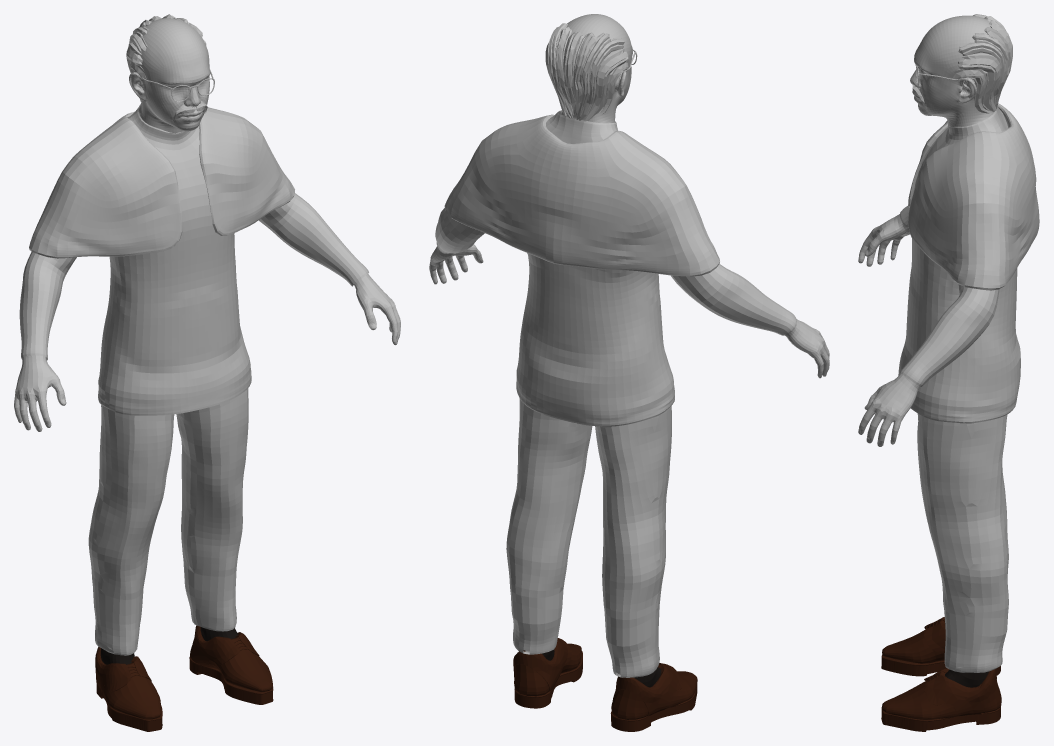
File: PadreAugusto_NPC.fbx
The picture shows the model from 3 angles, left to right: view 1: azimuth 30°, elevation 25°; view 2: azimuth 150°, elevation 25°; view 3: azimuth 270°, elevation 25°; orthographic projection. The views are drawn at different scales.
Parts seen in each view (by area): view 1: Batina_MESH, AugustoCalca_MESH, Capa_do_Padre_MESH, Sapato_Meia_MESH, AugustoHead_MESH, AugustuHands_MESH, CabeloAugusto_MESH; view 2: AugustoCalca_MESH, Capa_do_Padre_MESH, Batina_MESH, Sapato_Meia_MESH, CabeloAugusto_MESH, AugustuHands_MESH, AugustoHead_MESH; view 3: AugustoCalca_MESH, Batina_MESH, Capa_do_Padre_MESH, Sapato_Meia_MESH, AugustoHead_MESH, AugustuHands_MESH, CabeloAugusto_MESH.
Part boxes in pixels (left/top/right/bottom): Batina_MESH: left=19, top=104, right=368, bottom=415; AugustoCalca_MESH: left=88, top=388, right=248, bottom=655; Capa_do_Padre_MESH: left=29, top=107, right=294, bottom=258; Sapato_Meia_MESH: left=95, top=625, right=273, bottom=731; AugustoHead_MESH: left=129, top=18, right=210, bottom=133; AugustuHands_MESH: left=14, top=274, right=400, bottom=431; CabeloAugusto_MESH: left=126, top=14, right=207, bottom=121; AugustoCalca_MESH: left=506, top=398, right=671, bottom=677; Capa_do_Padre_MESH: left=444, top=114, right=719, bottom=276; Batina_MESH: left=435, top=110, right=796, bottom=426; Sapato_Meia_MESH: left=513, top=638, right=697, bottom=731; CabeloAugusto_MESH: left=545, top=23, right=628, bottom=121; AugustuHands_MESH: left=429, top=244, right=829, bottom=378; AugustoHead_MESH: left=561, top=14, right=632, bottom=123; AugustoCalca_MESH: left=917, top=413, right=1008, bottom=672; Batina_MESH: left=898, top=105, right=1020, bottom=423; Capa_do_Padre_MESH: left=908, top=103, right=1039, bottom=290; Sapato_Meia_MESH: left=881, top=617, right=1001, bottom=731; AugustoHead_MESH: left=910, top=15, right=995, bottom=126; AugustuHands_MESH: left=858, top=214, right=919, bottom=446; CabeloAugusto_MESH: left=912, top=14, right=1012, bottom=113.
Size of the model in its own units: 101 by 168 by 40.92.
